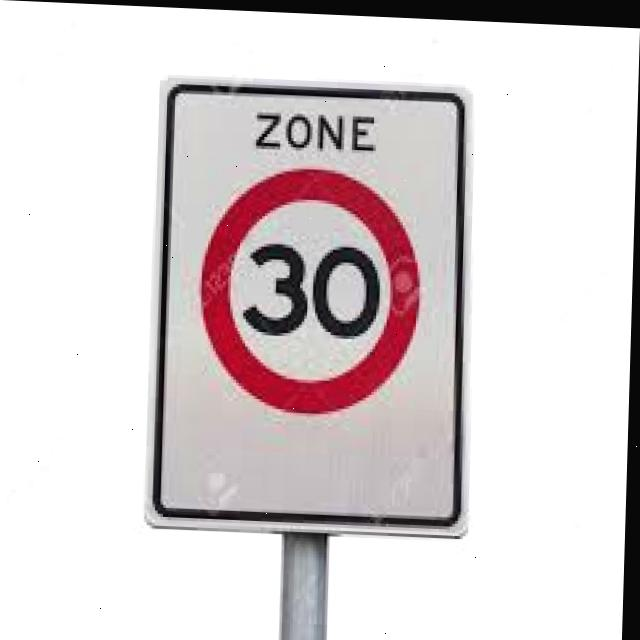Speed limit 30: (196, 158, 428, 419)
